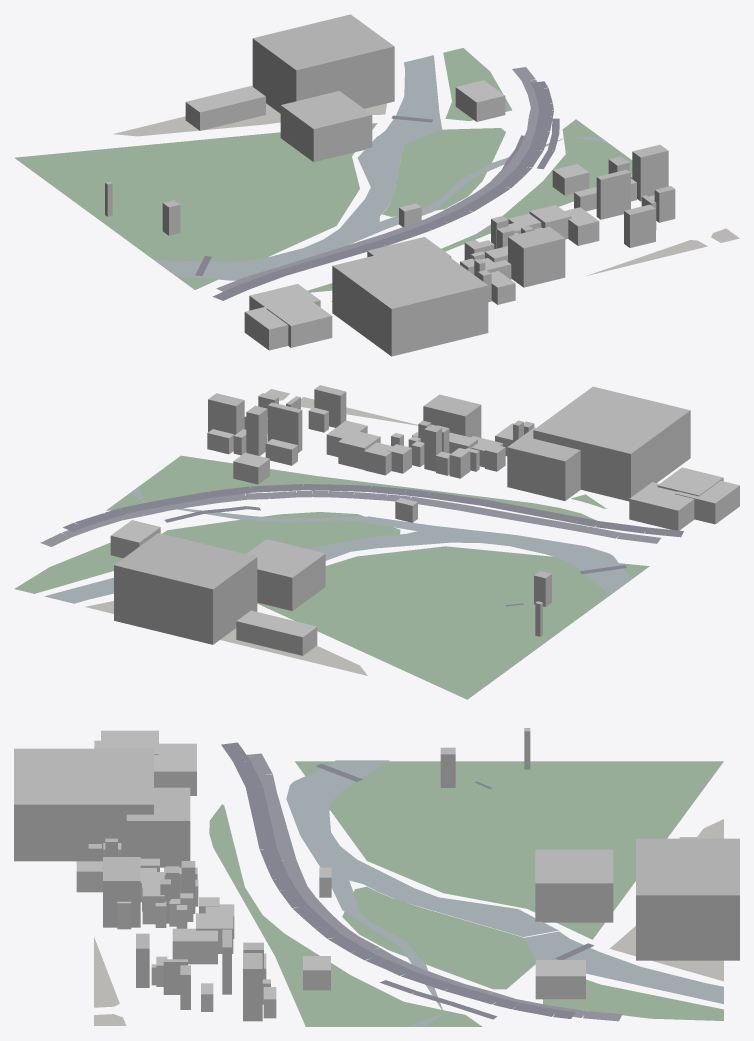
File: 117_114_mid.glb
3 renders of one model, top to bottom at view 1: azimuth 30°, elevation 25°; view 2: azimuth 150°, elevation 25°; view 3: azimuth 270°, elevation 25°, orthographic. The views are drawn at different scales.
Bounding box in the file's own units: 516 × 57.2 × 576.
